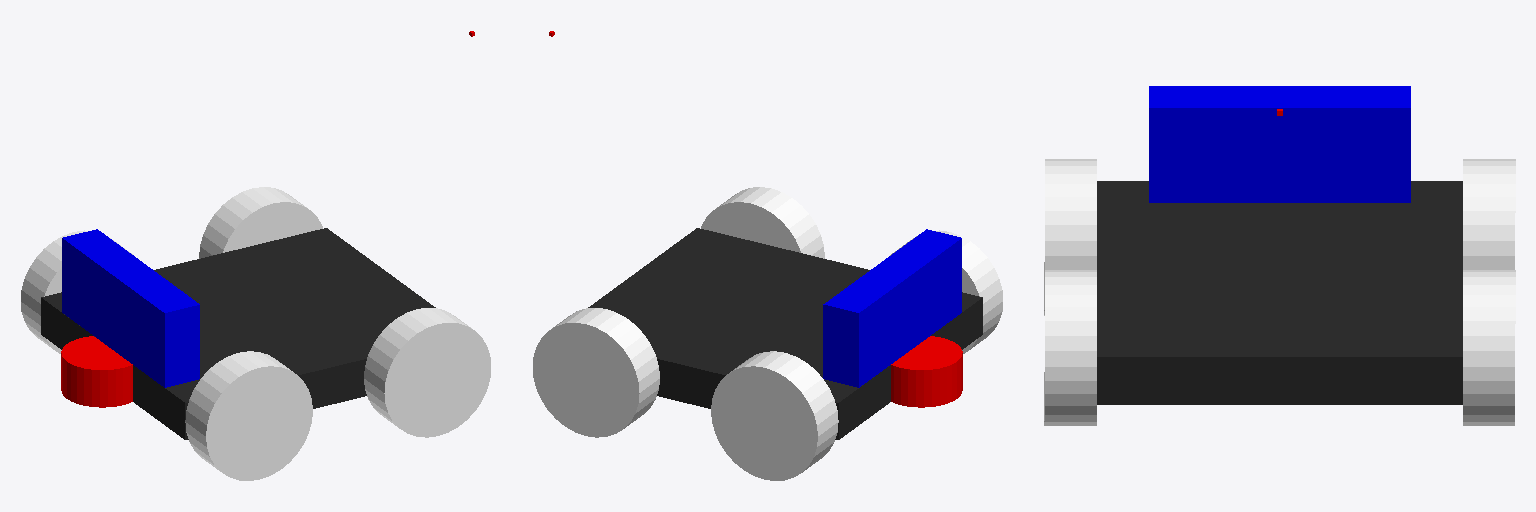
robot.urdf — rover:
<?xml version="1.0" ?><!-- Simple 4 wheeled tank drive Rover with Lidar Sensor and Camera Model -->
<robot name="rover">

  <!-- Base Link -->
  <link name="base_link">
    <visual>
      <geometry>
        <box size=".8 0.7 0.1"/>
      </geometry>
      <material name="gray">
        <color rgba=".2 .2 .2 1" />
      </material>
    </visual>
    <inertial>
      <mass value="2" />
      <inertia ixx="0.04" ixy="0.0" ixz="0" iyy="0.17" iyz="0" izz="0.25" />
    </inertial>

    <collision>
      <geometry>
        <box size=".8 0.7 0.1"/>
      </geometry>
    </collision>
  </link>


  <link name="wheel_front_right">
    <inertial>
      <mass value="2" />
      <inertia ixx="1e-3" ixy="0.0" ixz="0" iyy="1e-3" iyz="0" izz="1e-3" />
    </inertial>

    <visual>

      <geometry>
        <cylinder radius="0.15" length="0.1"/>
      </geometry>
      <material name="white">
        <color rgba="1 1 1 1"/>
      </material>
    </visual>

    <collision>

      <geometry>
        <cylinder radius="0.15" length="0.1"/>
      </geometry>
      <contact_coefficients mu="1" kp="1e+13" kd="1.0"/>
    </collision>
  </link>

  <joint name="wheel_front_right_joint" type="continuous">
    <origin xyz="0.25 0.4 0.0" rpy="1.57 0.0 0.0"/>
    <parent link="base_link"/>
    <child link="wheel_front_right"/>
    <axis xyz="0.0 0.0 1.0"/>
  </joint>

  <link name="wheel_front_left">
    <inertial>
      <mass value="2" />
      <inertia ixx="1e-3" ixy="0.0" ixz="0" iyy="1e-3" iyz="0" izz="1e-3" />
    </inertial>

    <visual>

      <geometry>
        <cylinder radius="0.15" length="0.1"/>
      </geometry>
      <material name="white">
        <color rgba="1 1 1 1"/>
      </material>
    </visual>

    <collision>
      <geometry>
        <cylinder radius="0.15" length="0.1"/>
      </geometry>
      <contact_coefficients mu="1" kp="1e+13" kd="1.0"/>
    </collision>
  </link>

  <joint name="wheel_front_left_joint" type="continuous">
    <origin xyz="0.25 -0.4 0.0" rpy="1.57 0.0 0.0"/>
    <parent link="base_link"/>
    <child link="wheel_front_left"/>
    <axis xyz="0.0 0.0 1.0"/>

  </joint>

  <link name="wheel_back_right">
    <inertial>
      <mass value="2" />
      <inertia ixx="1e-3" ixy="0.0" ixz="0" iyy="1e-3" iyz="0" izz="1e-3" />
    </inertial>

    <visual>

      <geometry>
        <cylinder radius="0.15" length="0.1"/>
      </geometry>
      <material name="white">
        <color rgba="1 1 1 1"/>
      </material>
    </visual>

    <collision>
      <geometry>
        <cylinder radius="0.15" length="0.1"/>
      </geometry>
      <contact_coefficients mu="1" kp="1e+13" kd="1.0"/>
    </collision>
  </link>

  <joint name="wheel_back_right_joint" type="continuous">
    <origin xyz="-0.25 0.4 0.0" rpy="1.57 0.0 0.0"/>
    <parent link="base_link"/>
    <child link="wheel_back_right"/>
    <axis xyz="0.0 0.0 1.0"/>

  </joint>

  <link name="wheel_back_left">
    <inertial>
      <mass value="2" />
      <inertia ixx="1e-3" ixy="0.0" ixz="0" iyy="1e-3" iyz="0" izz="1e-3" />
    </inertial>

    <visual>

      <geometry>
        <cylinder radius="0.15" length="0.1"/>
      </geometry>
      <material name="white">
        <color rgba="1 1 1 1"/>
      </material>
    </visual>

    <collision>
      <geometry>
        <cylinder radius="0.15" length="0.1"/>
      </geometry>
      <contact_coefficients mu="1" kp="1e+13" kd="1.0"/>
    </collision>
  </link>

  <joint name="wheel_back_left_joint" type="continuous">
    <origin xyz="-0.25 -0.4 0.0" rpy="1.57 0.0 0.0"/>
    <parent link="base_link"/>
    <child link="wheel_back_left"/>
    <axis xyz="0.0 0.0 1.0"/>

  </joint>

  <link name="camera">
    <inertial>
      <mass value="0.5" />
      <inertia ixx="0.01" ixy="0.0" ixz="0" iyy="0.01" iyz="0" izz="0.01" />
    </inertial>

    <visual>

      <geometry>
        <box size="0.1 0.5 0.2"/>
      </geometry>
      <material name="blue">
        <color rgba="0 0 1 1"/>
      </material>
    </visual>

    <collision>
      <geometry>
        <box size="0.1 0.5 0.2"/>
      </geometry>
    </collision>
  </link>

  <joint name="camera_joint" type="fixed">
    <origin xyz="-0.35 0 0.15" rpy="0 0.0 3.14"/>
    <parent link="base_link"/>
    <child link="camera"/>
    <axis xyz="0.0 0.0 1.0"/>

  </joint>

  <link name="lidar">
    <inertial>
      <mass value="0.5" />
      <inertia ixx="0.01" ixy="0.0" ixz="0" iyy="0.01" iyz="0" izz="0.01" />
    </inertial>

    <visual>
      <geometry>
        <cylinder radius="0.1" length="0.1"/>
      </geometry>
      <material name="red">
        <color rgba="1 0 0 1"/>
      </material>
    </visual>

    <collision>
      <geometry>
        <cylinder radius="0.1" length="0.1"/>
      </geometry>
    </collision>
  </link>

  <joint name="lidar_joint" type="fixed">
    <origin xyz="-0.43 0 0.0" rpy="0 0.0 1.57"/>
    <parent link="base_link"/>
    <child link="lidar"/>
    <axis xyz="0.0 0.0 1.0"/>

  </joint>


  <gazebo>
    <plugin name='diff_drive' filename='libgazebo_ros_diff_drive.so'>
      <left_joint>wheel_front_left_joint</left_joint>
      <right_joint>wheel_front_right_joint</right_joint>
      <wheel_separation>0.8</wheel_separation>
      <wheel_diameter>0.3</wheel_diameter>
      <max_wheel_torque>20</max_wheel_torque>
      <max_wheel_acceleration>1.0</max_wheel_acceleration>]
      <publish_odom>true</publish_odom>
      <publish_odom_tf>true</publish_odom_tf>
      <publish_wheel_tf>true</publish_wheel_tf>
      <odometry_frame>base_footprint</odometry_frame>
      <robot_base_frame>chassis</robot_base_frame>

    </plugin>
    <plugin name="gazebo_ros_control" filename="libgazebo_ros_control.so">
      <robotNamespace>open_manipulator</robotNamespace>
      <robotSimType>gazebo_ros_control/DefaultRobotHWSim</robotSimType>
    </plugin>
  </gazebo>

  <gazebo reference="camera">
    <sensor type="camera" name="camera1">
      <update_rate>30.0</update_rate>
      <camera name="head">
        <horizontal_fov>1.3962634</horizontal_fov>
        <image>
          <width>800</width>
          <height>800</height>
          <format>R8G8B8</format>
        </image>
        <clip>
          <near>0.02</near>
          <far>300</far>
        </clip>
        <noise>
          <type>gaussian</type>
          <mean>0.0</mean>
          <stddev>0.007</stddev>
        </noise>
      </camera>
      <plugin name="camera_controller" filename="libgazebo_ros_camera.so">
        <alwaysOn>true</alwaysOn>
        <updateRate>0.0</updateRate>
        <cameraName>/camera</cameraName>
        <imageTopicName>image_raw</imageTopicName>
        <cameraInfoTopicName>camera_info</cameraInfoTopicName>
        <frameName>camera_link</frameName>
        <hackBaseline>0.07</hackBaseline>
      </plugin>
    </sensor>
    <material>Gazebo/Blue</material>
  </gazebo>


  <gazebo reference="lidar">
    <sensor name="gazebo_lidar" type="ray">
      <visualize>true</visualize>
      <update_rate>12.0</update_rate>
      <plugin filename="libgazebo_ros_ray_sensor.so" name="gazebo_lidar">
        <ros>
          <remapping>~/out:=scan</remapping>
        </ros>

        <output_type>sensor_msgs/LaserScan</output_type>
        <frame_name>lidar</frame_name>
      </plugin>
      <ray>
        <scan>
          <horizontal>
            <samples>360</samples>
            <resolution>1</resolution>
            <min_angle>0.00</min_angle>
            <max_angle>3.14</max_angle>
          </horizontal>
        </scan>
        <range>
          <min>0.120</min>
          <max>3.5</max>
          <resolution>0.015</resolution>
        </range>
        <noise>
          <type>gaussian</type>
          <mean>0.0</mean>
          <stddev>0.01</stddev>
        </noise>
      </ray>
    </sensor>
    <material>Gazebo/DarkGrey</material>
  </gazebo>

  <gazebo reference="wheel_back_right">
    <material>Gazebo/Red</material>
  </gazebo>

  <gazebo reference="wheel_back_left">
    <material>Gazebo/Red</material>
  </gazebo>

  <gazebo reference="wheel_front_right">
    <material>Gazebo/Red</material>
  </gazebo>

  <gazebo reference="wheel_front_left">
    <material>Gazebo/Red</material>
  </gazebo>

  <gazebo reference="base_link">
    <material>Gazebo/DarkGrey</material>
  </gazebo>
  <gazebo reference="link1">
    <material>Gazebo/Gray</material>
  </gazebo>
  <gazebo reference="link2">
    <material>Gazebo/Gray</material>
  </gazebo>
  <gazebo reference="link3">
    <material>Gazebo/Gray</material>
  </gazebo>
  <gazebo reference="link4">
    <material>Gazebo/Gray</material>
  </gazebo>
  <gazebo reference="link5">
    <material>Gazebo/Gray</material>
  </gazebo>
  <gazebo reference="gripper_left">
    <material>Gazebo/Gray</material>
  </gazebo>
  <gazebo reference="gripper_right">
    <material>Gazebo/Gray</material>
  </gazebo>
  <!-- Robot Arm -->
  <!-- Link 1 -->
  <link name="link1">
    <visual>
      <origin xyz="0 0 0" rpy="0 0 0"/>
      <geometry>
        <mesh filename="package://rover/meshes/link1.stl" scale="0.003 0.003 0.003"/>
      </geometry>
      <material name="grey">
        <color rgba="0.5 0.5 0.5 1"/>
      </material>
    </visual>
    <collision>
      <origin xyz="0 0 0" rpy="0 0 0"/>
      <geometry>
        <box size="0.15 0.15 0.15"/>
      </geometry>
    </collision>
    <inertial>
      <origin xyz="9.2628452e-04 0.0000000e+00 -3.6529383e-04" />
      <mass value="2.3735986e-01" />
      <inertia ixx="1.1251570e-04" ixy="0.0" ixz="-5.3565624e-07" iyy="1.5709509e-04" iyz="0.0" izz="1.7300208e-04" />
    </inertial>
  </link>

  <joint name="base_joint" type="fixed">
    <parent link="base_link"/>
    <child link="link1"/>
    <origin xyz="0.0 0.0 0.05" rpy="0 0 0"/>
  </joint>


  <!-- Link 2 -->
  <link name="link2">
    <visual>
      <origin xyz="0 0 0.057" rpy="0 0 0"/>
      <geometry>
        <mesh filename="package://rover/meshes/link2.stl" scale="0.003 0.003 0.003"/>
      </geometry>
      <material name="grey">
        <color rgba="0.5 0.5 0.5 1"/>
      </material>
    </visual>
    <collision>
      <origin xyz="0 0 0.057" rpy="0 0 0"/>
      <geometry>
        <mesh filename="package://rover/meshes/link2.stl" scale="0.003 0.003 0.003"/>
      </geometry>
    </collision>
    <inertial>
      <origin xyz="-9.0554610e-04 1.6213105e-03 1.4230039e-01" />
      <mass value="2.9522041e-01" />
      <inertia ixx="1.0363027e-04" ixy="-4.8092985e-08" ixz="-1.1512546e-06" iyy="9.8067987e-05" iyz="8.5535816e-08" izz="5.6550961e-05" />
    </inertial>
  </link>

  <joint name="joint1" type="revolute">
    <parent link="link1"/>
    <child link="link2"/>
    <origin xyz="0.036 0.0 0.05" rpy="0 0 0"/>
    <axis xyz="0 0 1"/>
    <limit velocity="4.8" effort="1" lower="-1.57" upper="1.57" />
    <dynamics damping="0.1"/>
  </joint>

  <!-- Link 3 -->
  <link name="link3">
    <visual>
      <origin xyz="0 0 0" rpy="0 0 0"/>
      <geometry>
        <mesh filename="package://rover/meshes/link3.stl" scale="0.003 0.003 0.003"/>
      </geometry>
      <material name="grey">
        <color rgba="0.5 0.5 0.5 1"/>
      </material>
    </visual>
    <collision>
      <origin xyz="0 0 0" rpy="0 0 0"/>
      <geometry>
        <mesh filename="package://rover/meshes/link3.stl" scale="0.003 0.003 0.003"/>
      </geometry>
    </collision>
    <inertial>
      <origin xyz="3.0925188e-02 1.1323009e-03 3.0510591e-01" />
      <mass value="4.1552751e-01" />
      <inertia ixx="9.9166143e-04" ixy="-2.9382294e-07" ixz="-1.1551713e-04" iyy="1.0287134e-03" iyz="-4.7132548e-06" izz="1.8103949e-04" />
    </inertial>
  </link>

  <joint name="joint2" type="revolute">
    <parent link="link2"/>
    <child link="link3"/>
    <origin xyz="0.0 0.0 0.1785" rpy="0 0 0"/>
    <axis xyz="0 1 0"/>
    <limit velocity="4.8" effort="1" lower="-0.94" upper="0.94" />
    <dynamics damping="0.1"/>
  </joint>

  <!-- Link 4 -->
  <link name="link4">
    <visual>
      <origin xyz="0 0 0" rpy="0 0 0"/>
      <geometry>
        <mesh filename="package://rover/meshes/link4.stl" scale="0.003 0.003 0.003"/>
      </geometry>
      <material name="grey">
        <color rgba="0.5 0.5 0.5 1"/>
      </material>
    </visual>
    <collision>
      <origin xyz="0 0 0" rpy="0 0 0"/>
      <geometry>
        <mesh filename="package://rover/meshes/link4.stl" scale="0.003 0.003 0.003"/>
      </geometry>
    </collision>
    <inertial>
      <origin xyz="2.7272877e-01 1.1678944e-03 6.7239837e-04" />
      <mass value="3.9823686e-01" />
      <inertia ixx="9.1962534e-05" ixy="-3.8292466e-06" ixz="-8.0623250e-07" iyy="7.2690876e-04" iyz="3.4678650e-08" izz="7.5465171e-04" />
    </inertial>
  </link>

  <joint name="joint3" type="revolute">
    <parent link="link3"/>
    <child link="link4"/>
    <origin xyz="0.072 0 0.384" rpy="0 0 0"/>
    <axis xyz="0 1 0"/>
    <limit velocity="4.8" effort="1" lower="-1.79" upper="2.04" />
    <dynamics damping="0.1"/>
  </joint>

  <!-- Link 5 -->
  <link name="link5">
    <visual>
      <origin xyz="0 0 0" rpy="0 0 0"/>
      <geometry>
        <mesh filename="package://rover/meshes/link5.stl" scale="0.003 0.003 0.003"/>
      </geometry>
      <material name="grey">
        <color rgba="0.5 0.5 0.5 1"/>
      </material>
    </visual>
    <collision>
      <origin xyz="0 0 0" rpy="0 0 0"/>
      <geometry>
        <mesh filename="package://rover/meshes/link5.stl" scale="0.003 0.003 0.003"/>
      </geometry>
    </collision>
    <inertial>
      <origin xyz="1.3262026e-01 1.1051996e-06 2.6732665e-02" />
      <mass value="4.2982718e-01" />
      <inertia ixx="2.4261225e-04" ixy="0.0" ixz="-3.0473689e-06" iyy="2.2794140e-04" iyz="0.0" izz="2.7938212e-04" />
    </inertial>
  </link>

  <joint name="joint4" type="revolute">
    <parent link="link4"/>
    <child link="link5"/>
    <origin xyz="0.372 0.0 0.0" rpy="0 0 0"/>
    <axis xyz="0 1 0"/>
    <limit velocity="4.8" effort="1" lower="-1.79" upper="2.04" />
    <dynamics damping="0.1"/>
  </joint>

  <!-- Gripper Left -->
  <link name="gripper_left">
    <visual>
      <origin xyz="0 0 0" rpy="0 0 0"/>
      <geometry>
        <mesh filename="package://rover/meshes/gripper_left_palm.stl" scale="0.003 0.003 0.003"/>
      </geometry>
      <material name="grey">
        <color rgba="0.5 0.5 0.5 1"/>
      </material>
    </visual>
    <collision>
      <origin xyz="0 0 0" rpy="0 0 0"/>
      <geometry>
        <mesh filename="package://rover/meshes/gripper_left_palm.stl" scale="0.003 0.003 0.003"/>
      </geometry>
    </collision>
    <inertial>
      <origin xyz="0 0 0" />
      <mass value="3.0e-03" />
      <inertia ixx="3.0e-06" ixy="0.0" ixz="0.0" iyy="3.0e-06" iyz="0.0" izz="3.0e-06" />
    </inertial>
  </link>

  <joint name="gripper_left_joint" type="prismatic">
    <parent link="link5"/>
    <child link="gripper_left"/>
    <origin xyz="0.2451 0.0631 0.0" rpy="0 0 0"/>
    <axis xyz="0 1 0"/>
    <limit velocity="4.8" effort="1" lower="-0.03" upper="0.057" />
    <dynamics damping="0.1"/>
  </joint>

  <!-- Gripper Right -->
  <link name="gripper_right">
    <visual>
      <origin xyz="0 0 0" rpy="0 0 0"/>
      <geometry>
        <mesh filename="package://rover/meshes/gripper_right_palm.stl" scale="0.003 0.003 0.003"/>
      </geometry>
      <material name="grey">
        <color rgba="0.5 0.5 0.5 1"/>
      </material>
    </visual>
    <collision>
      <origin xyz="0 0 0" rpy="0 0 0"/>
      <geometry>
        <mesh filename="package://rover/meshes/gripper_right_palm.stl" scale="0.003 0.003 0.003"/>
      </geometry>
    </collision>
    <inertial>
      <origin xyz="0 0 0" />
      <mass value="3.0e-03" />
      <inertia ixx="3.0e-06" ixy="0.0" ixz="0.0" iyy="3.0e-06" iyz="0.0" izz="3.0e-06" />
    </inertial>
  </link>

  <joint name="gripper_right_joint" type="prismatic">
    <parent link="link5"/>
    <child link="gripper_right"/>
    <origin xyz="0.2451 -0.0631 0" rpy="0 0 0"/>
    <axis xyz="0 -1 0"/>
    <limit velocity="4.8" effort="1" lower="-0.03" upper="0.057" />
    <mimic joint="gripper_left_joint" multiplier="1"/>
    <dynamics damping="0.1"/>
  </joint>

  <link name="end_effector_link">
    <visual>
      <origin xyz="0 0 0" rpy="0 0 0"/>
      <geometry>
        <box size="0.01 0.01 0.01" />
      </geometry>
      <material name="red"/>
     </visual>
    <collision>
      <origin xyz="0 0 0" rpy="0 0 0"/>
      <geometry>
        <box size="0.01 0.01 0.01" />
      </geometry>
    </collision>
    <inertial>
      <origin xyz="0 0 0" />
      <mass value="1e-03" />
      <inertia ixx="1e-06" ixy="0.0" ixz="0.0" iyy="1e-06" iyz="0.0" izz="1e-06" />
    </inertial>
  </link>
  
  <joint name="end_effector_joint" type="fixed">
    <parent link="link5"/>
    <child link="end_effector_link"/>
    <origin xyz="0.126 0.0 0.0" rpy="0 0 0"/>
  </joint>

</robot>

--- Facts derived from the render (not from the file) ---
3 views of the same robot in one strip: view 1: azimuth 30°, elevation 25°; view 2: azimuth 150°, elevation 25°; view 3: azimuth 270°, elevation 25° (orthographic).
Robot: rover — 15 links, 14 joints (4 revolute, 4 continuous, 2 prismatic, 4 fixed); root link base_link; default pose: every joint at zero.
Links seen in each view (by area): view 1: base_link, camera, wheel_front_left, wheel_back_left, wheel_front_right, lidar, wheel_back_right; view 2: base_link, camera, wheel_front_right, wheel_back_right, wheel_front_left, lidar, wheel_back_left; view 3: base_link, camera, wheel_front_right, wheel_front_left, wheel_back_right, wheel_back_left.
Boxes of the visible links, x1,y1,x2,y2 form: base_link: (41, 228, 435, 439); camera: (62, 229, 199, 387); wheel_front_left: (364, 308, 490, 437); wheel_back_left: (185, 351, 312, 480); wheel_front_right: (199, 187, 322, 258); lidar: (61, 336, 132, 407); wheel_back_right: (21, 230, 132, 353); base_link: (588, 228, 982, 439); camera: (823, 229, 961, 387); wheel_front_right: (533, 308, 659, 437); wheel_back_right: (711, 351, 838, 480); wheel_front_left: (701, 187, 824, 258); lidar: (891, 336, 962, 407); wheel_back_left: (890, 230, 1002, 353); base_link: (1097, 181, 1462, 404); camera: (1149, 86, 1410, 202); wheel_front_right: (1463, 270, 1515, 425); wheel_front_left: (1044, 270, 1096, 425); wheel_back_right: (1463, 159, 1515, 269); wheel_back_left: (1044, 159, 1096, 315).
Size in the robot's own frame: 1.14 by 0.9002 by 0.8175 metres.
Meshes: 7 distinct files referenced, 0 mesh visuals loaded (none loaded); not drawn: 7 (reference not matched to a file when rendering).
